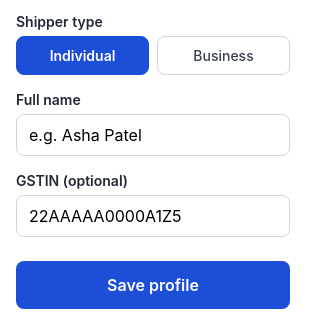
ProfileForm - shipper role › defaults to the individual segment and updates the label when switching to business
Expected: the text "Full name" is shown, [16,91,81,108]
What coordinates should you click on to do the following:
click the button with test id "shipper-type-business"
I would click on:
 (224, 56)
Its box is [157,36,290,75].
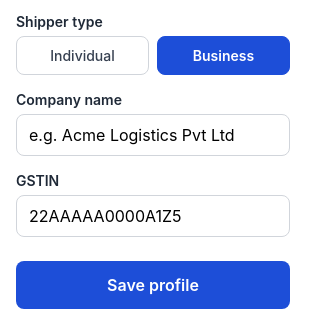
Expected: the text "GSTIN" is shown, [16,172,59,189]
Expected: the text "Company name" is shown, [16,91,122,108]
